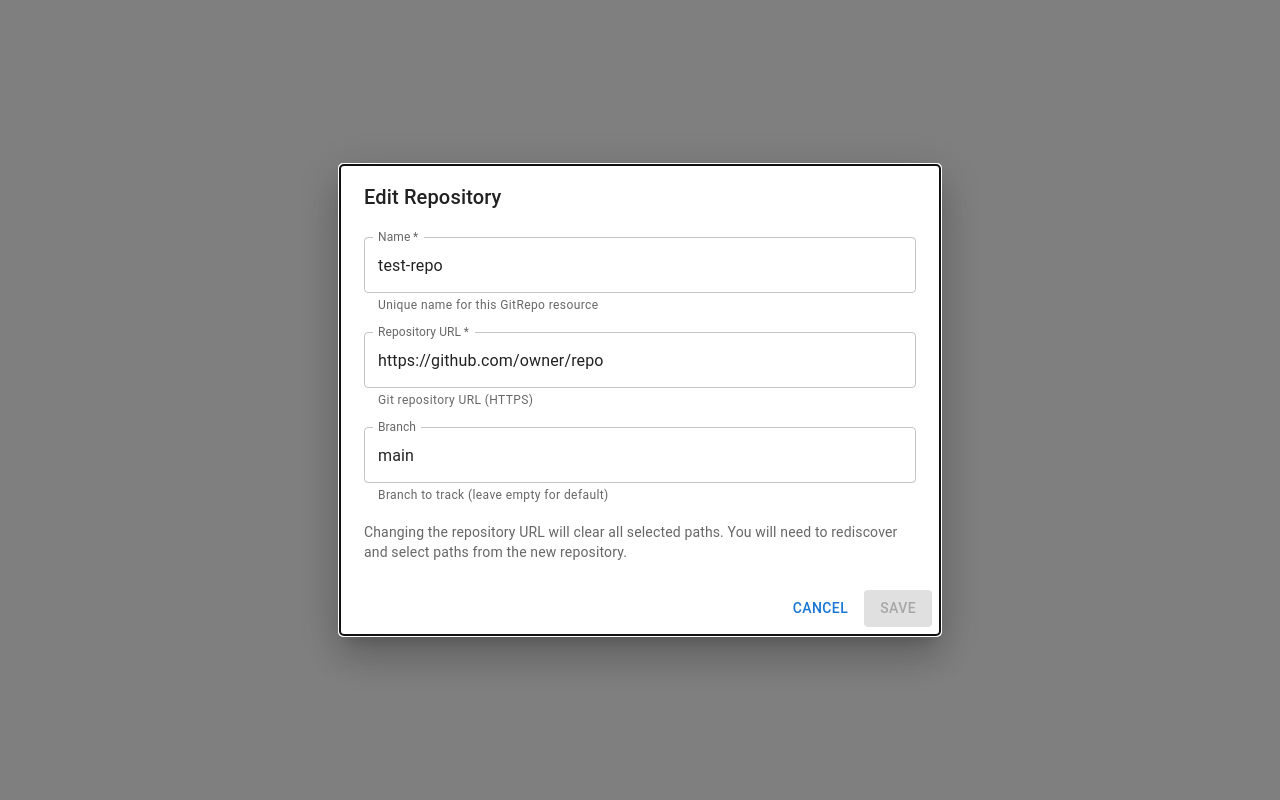
Scenario: EditRepoDialog › displays error message when save throws
Make a change first
Replace the text in the field labelled "Name *" with "changed" at (640, 265), box [364,237,916,293]
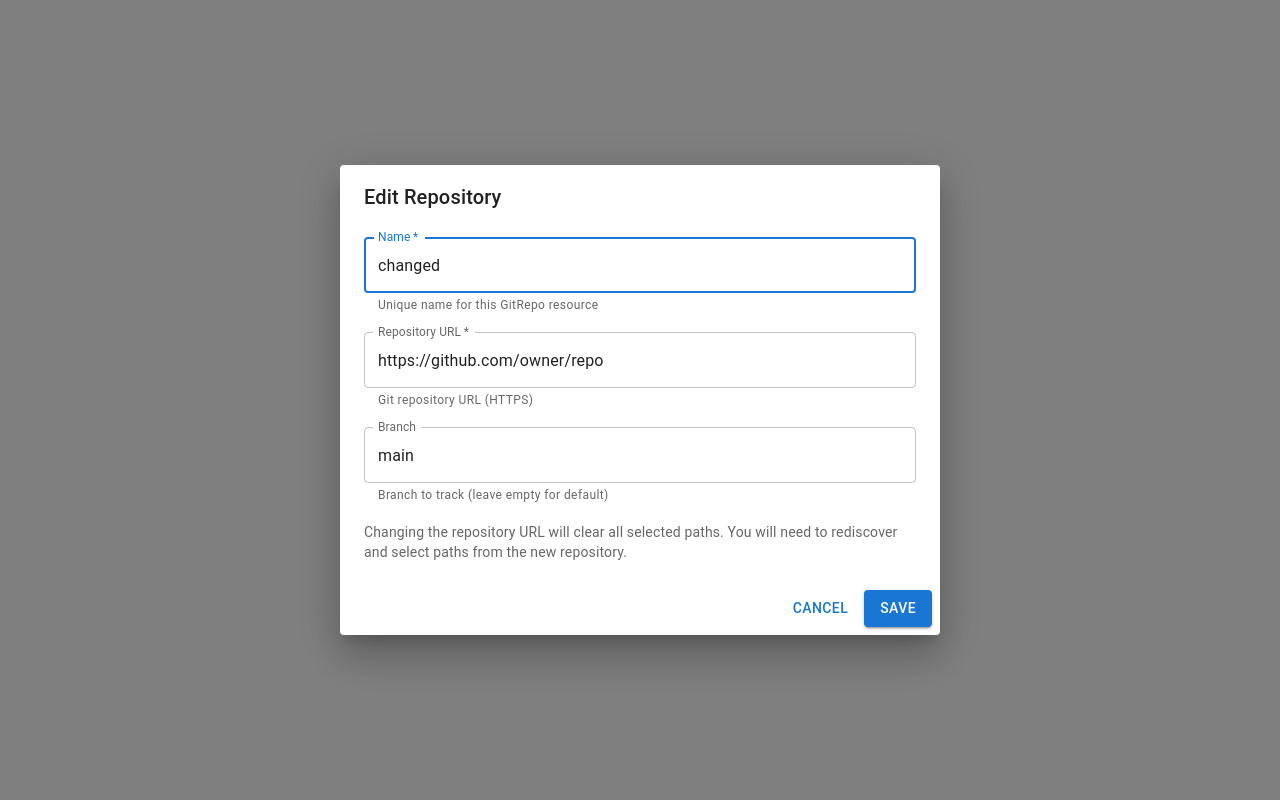
Click the button "Save" at (898, 608), box [864,590,932,627]
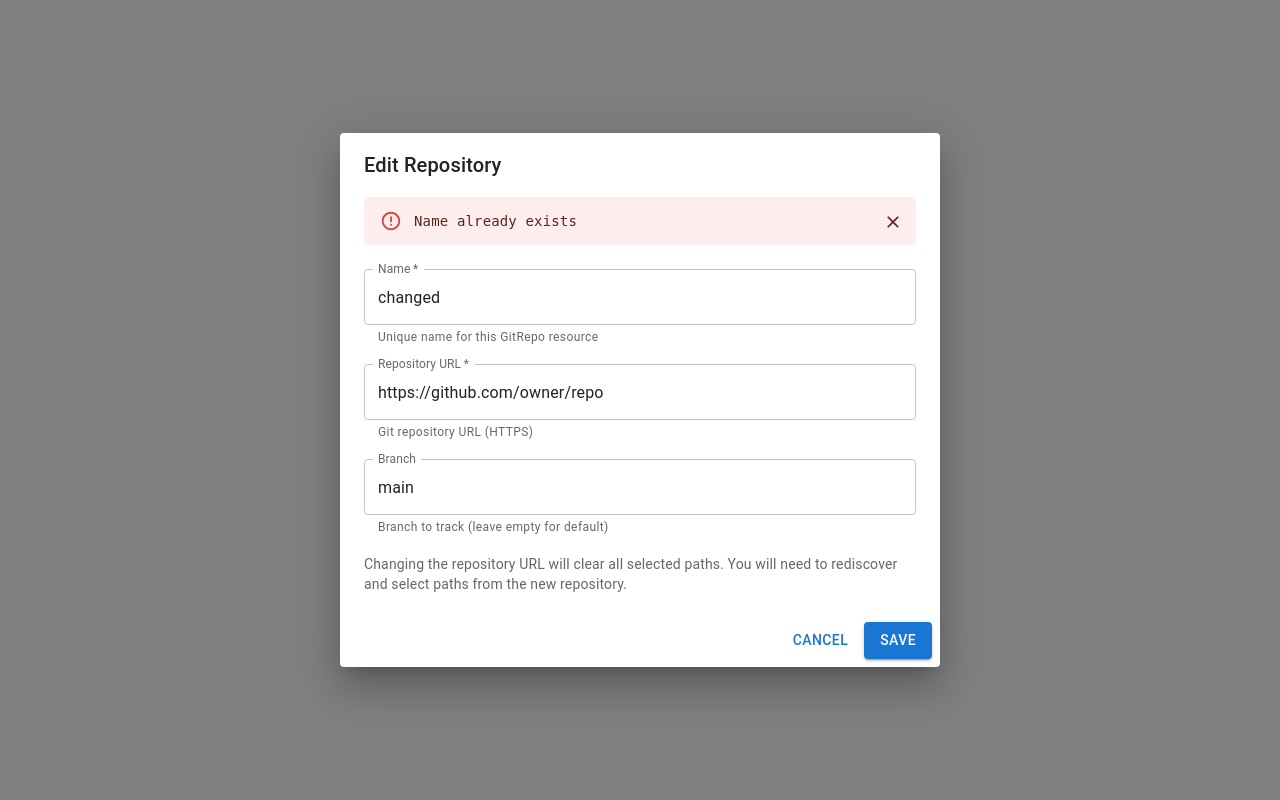
Expected: the text "Name already exists" is shown, [414,213,577,229]
